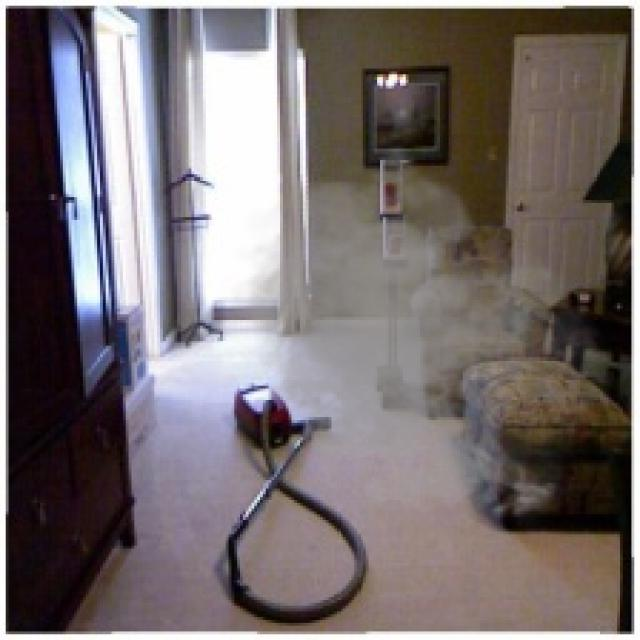smoke: (217, 143, 623, 528)
